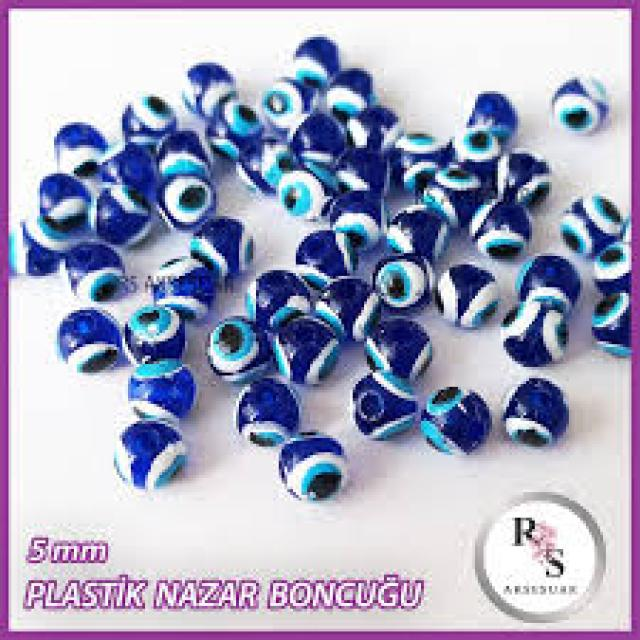Nazar-Boncugu: (275, 432, 353, 504), (499, 377, 573, 450)
